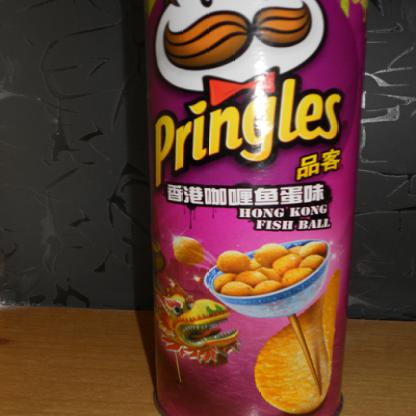potatochip: (142, 0, 376, 415)
